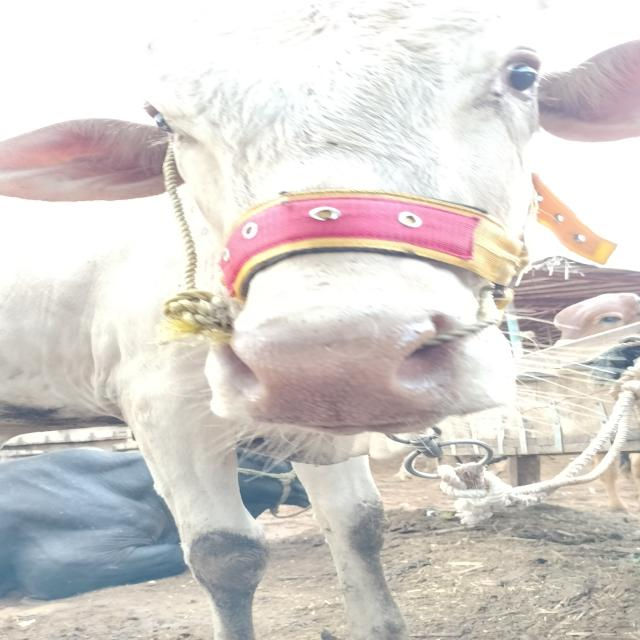muzzles: (182, 313, 508, 435)
